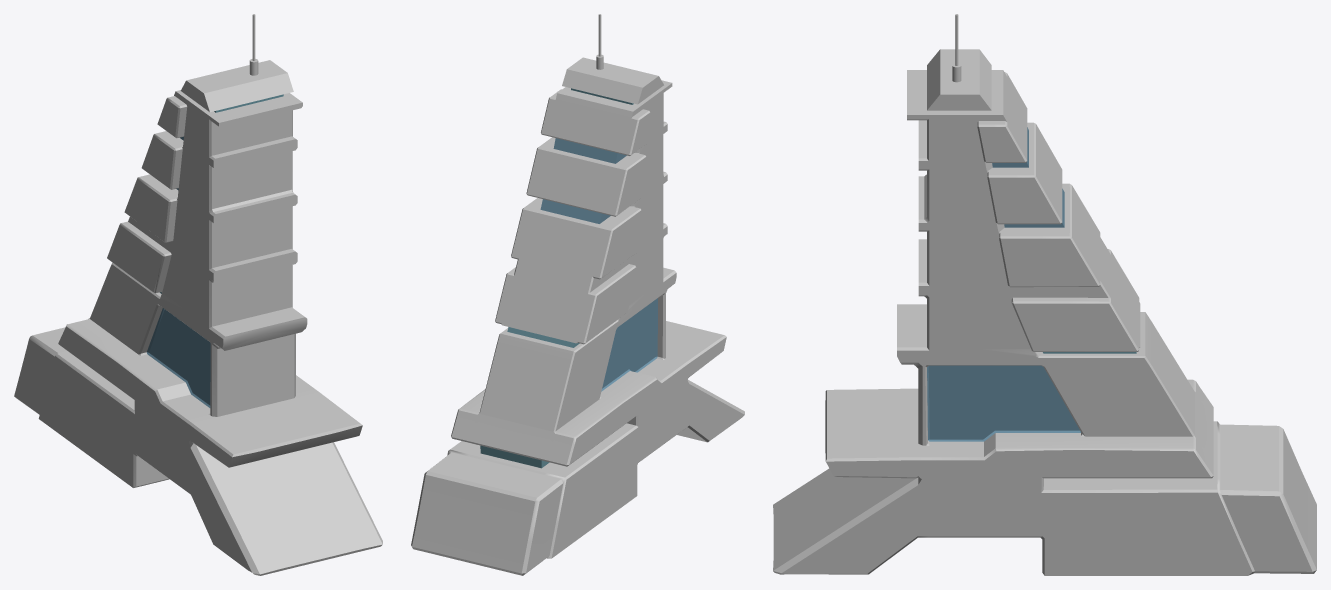
The model's file is Large_triangle_building.fbx.
3 views of the same model, side by side, from view 1: azimuth 30°, elevation 25°; view 2: azimuth 150°, elevation 25°; view 3: azimuth 270°, elevation 25° (orthographic). The views are drawn at different scales.
Parts seen in each view (by area): view 1: pCylinder2; view 2: pCylinder2; view 3: pCylinder2.
Boxes of the visible parts, box(x1,y1,x2,y2) form: pCylinder2: box(14, 14, 382, 575); pCylinder2: box(411, 14, 744, 575); pCylinder2: box(773, 14, 1316, 575).
Size of the model in its own units: 6045 by 21369 by 19693.
